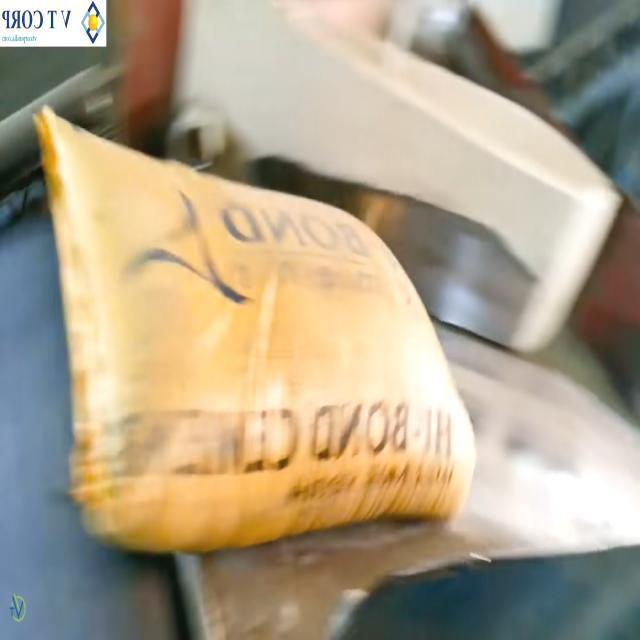gunny_bag: (34, 108, 475, 551)
